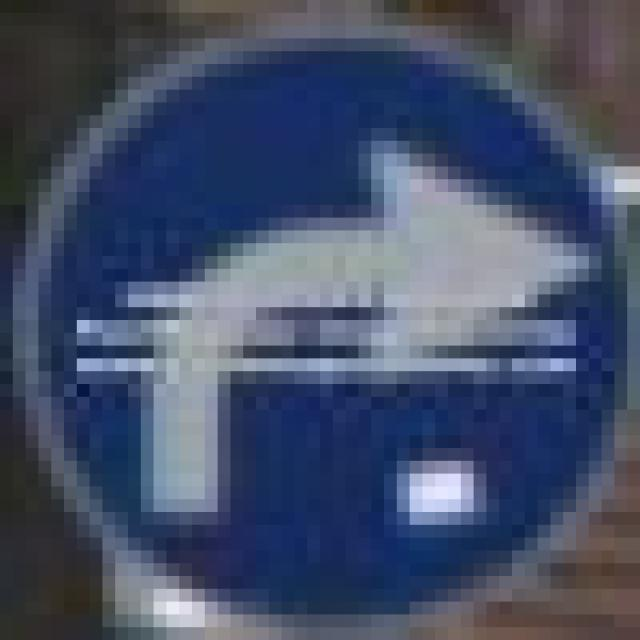railway_crossing: (26, 12, 602, 602)
